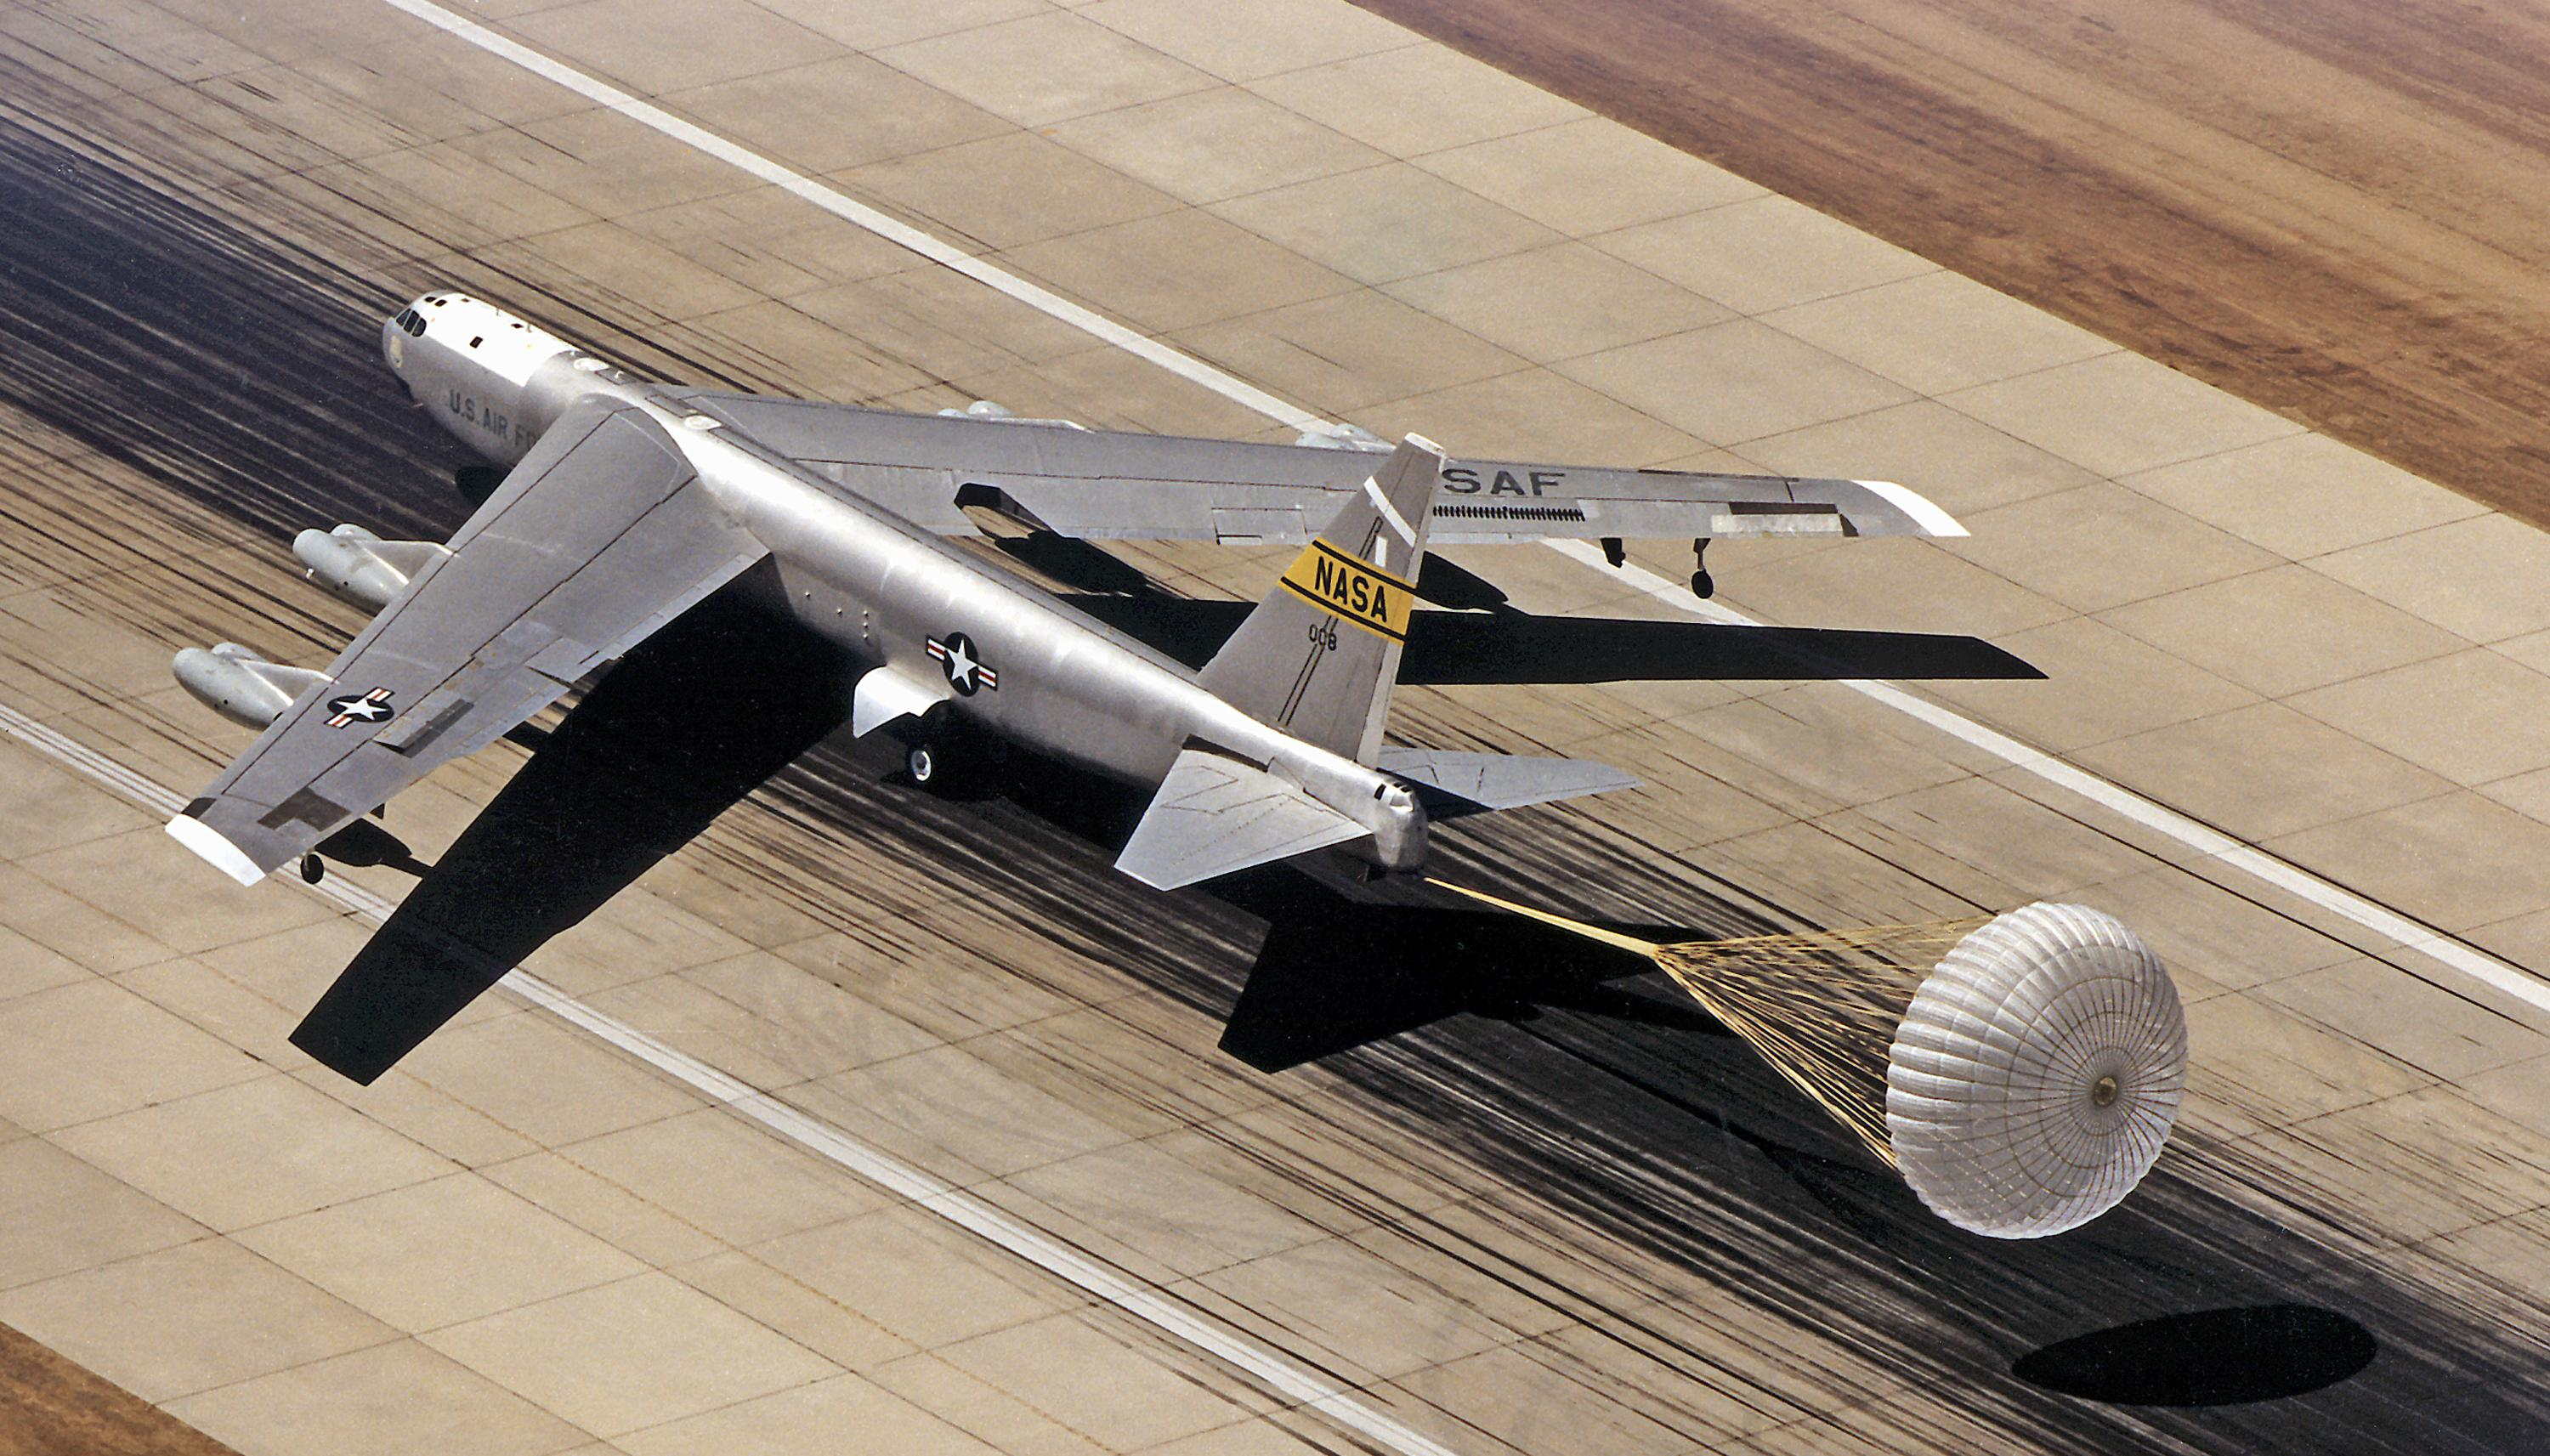B52: (163, 287, 1970, 892)
